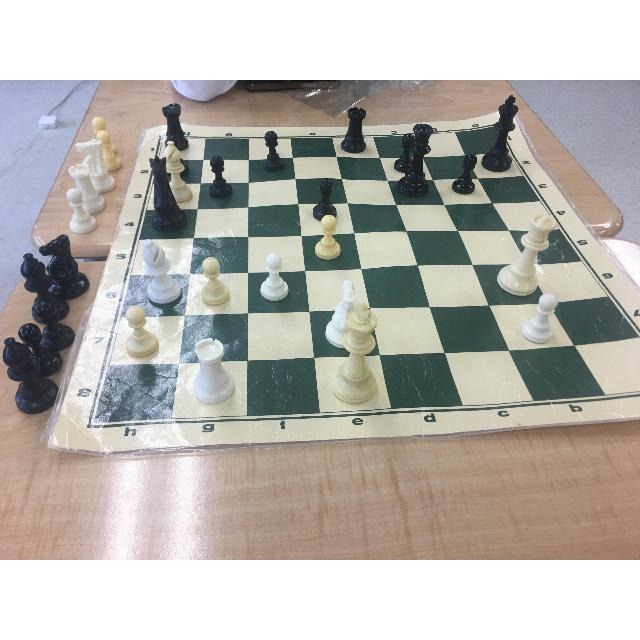black-king: (487, 93, 523, 173)
black-knight: (142, 160, 178, 225)
black-pawn: (203, 153, 239, 206), (256, 123, 289, 171), (311, 174, 339, 215), (457, 147, 480, 195), (395, 127, 414, 174)
black-queen: (411, 121, 433, 202)
black-rook: (157, 108, 191, 145), (343, 106, 371, 150)
white-bishop: (140, 239, 180, 303), (161, 140, 193, 208)
white-king: (341, 304, 391, 408)
white-knight: (326, 279, 368, 351)
white-pawn: (248, 252, 294, 306), (532, 284, 568, 350), (311, 211, 347, 270), (193, 256, 231, 304), (119, 311, 155, 355)
white-queen: (492, 206, 564, 304)
white-rook: (179, 334, 234, 416)
